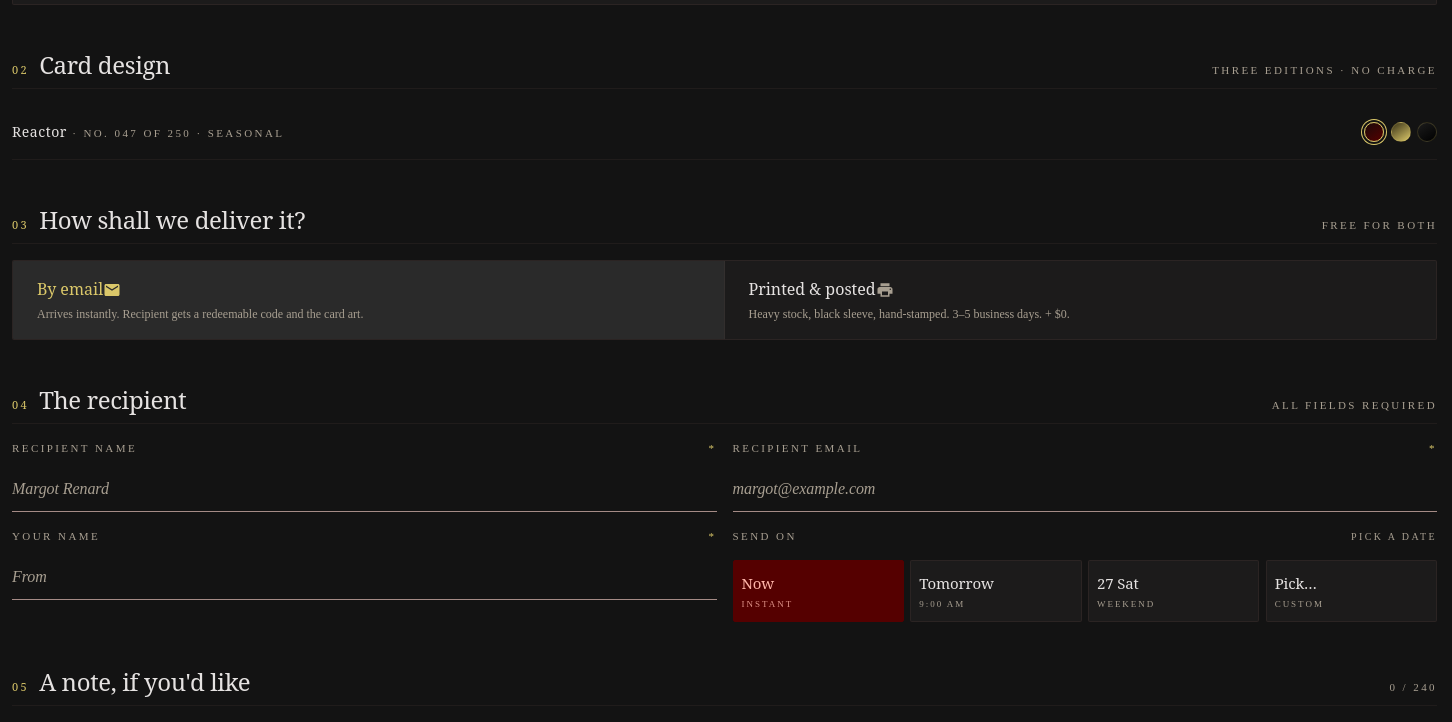
Scenario: GiftCardComposer › renders schedule chip with disabled custom-date input until selected
(page scrolled)
Step 1. Click the button with class "composer__chip" showing "Pick… Custom" → {"x": 1351, "y": 591}, box top-left (1266, 560), bottom-right (1437, 622)
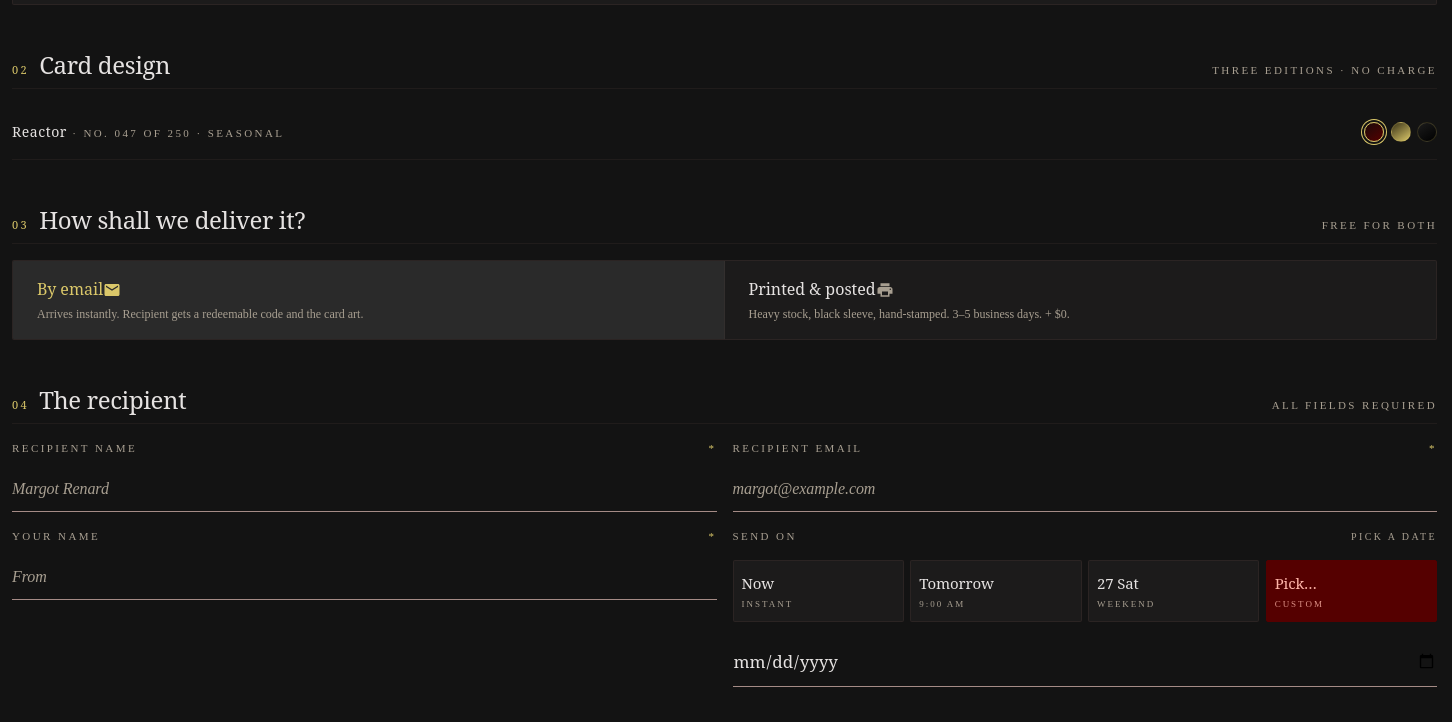
expect the date field with class "composer__custom-date" is shown: met, box top-left (732, 637), bottom-right (1437, 687)
